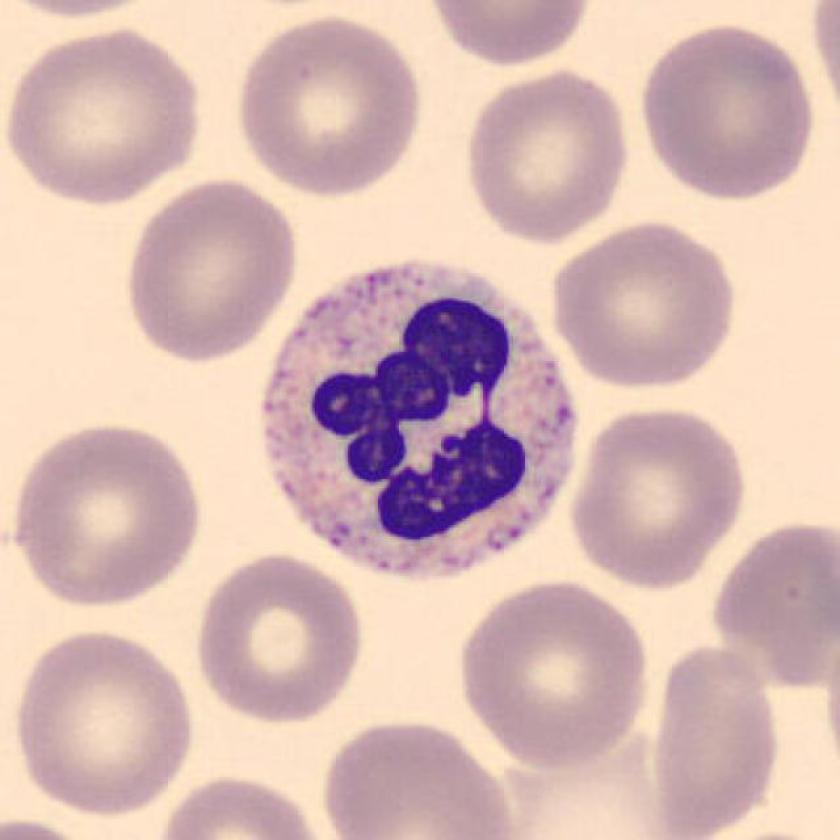neutrophil: (265, 266, 575, 573)
